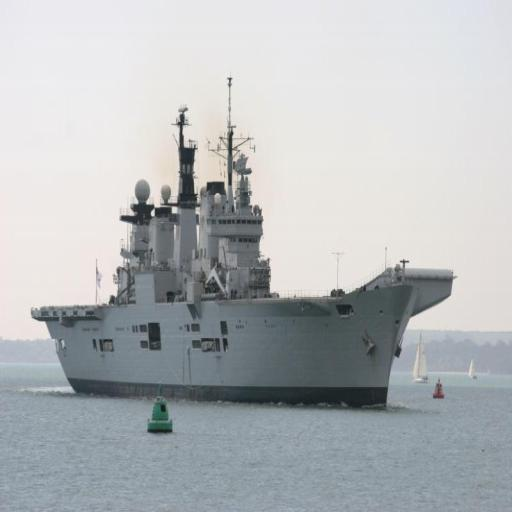Portanaves: (29, 69, 456, 424)
